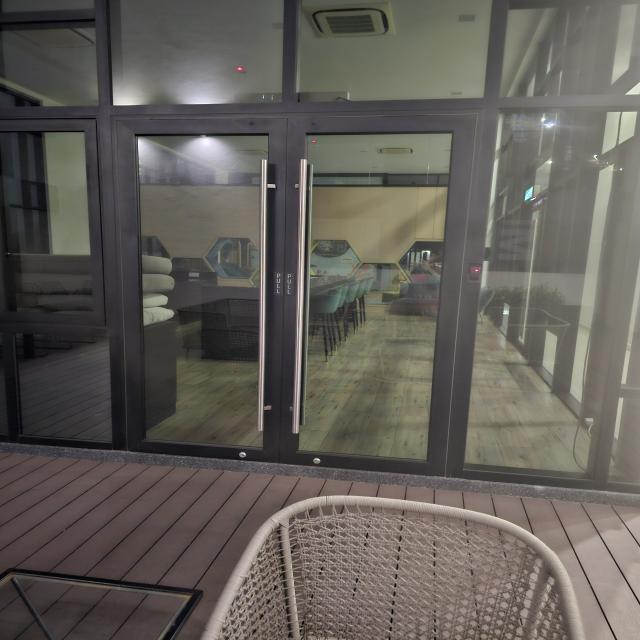door: (111, 109, 472, 479)
obstacle: (194, 488, 601, 640), (2, 553, 198, 640)
